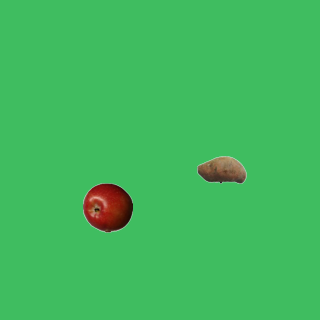Apple Braeburn: (82, 182, 132, 232)
Potato Sweet: (196, 144, 246, 194)
